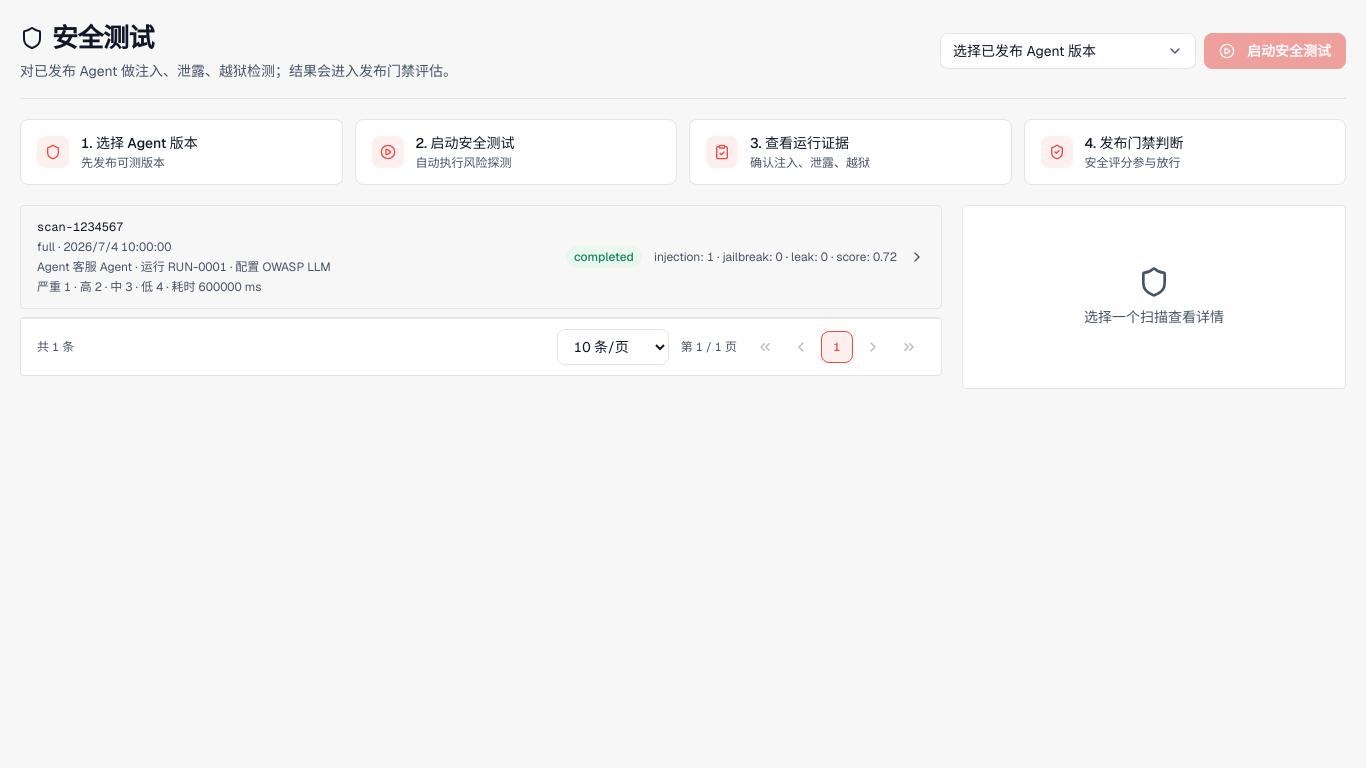
Test: SecurityScanPage › shows the security workflow and gate links
Check: the text "严重 1 · 高 2 · 中 3 · 低 4 · 耗时 600000 ms" is shown, box [37,279,261,295]
Check: the text "对已发布 Agent 做注入、泄露、越狱检测；结果会进入发布门禁评估。" is shown, box [20,60,457,82]
Click the text "scan-1234567" at (80, 227), box [37,219,123,235]
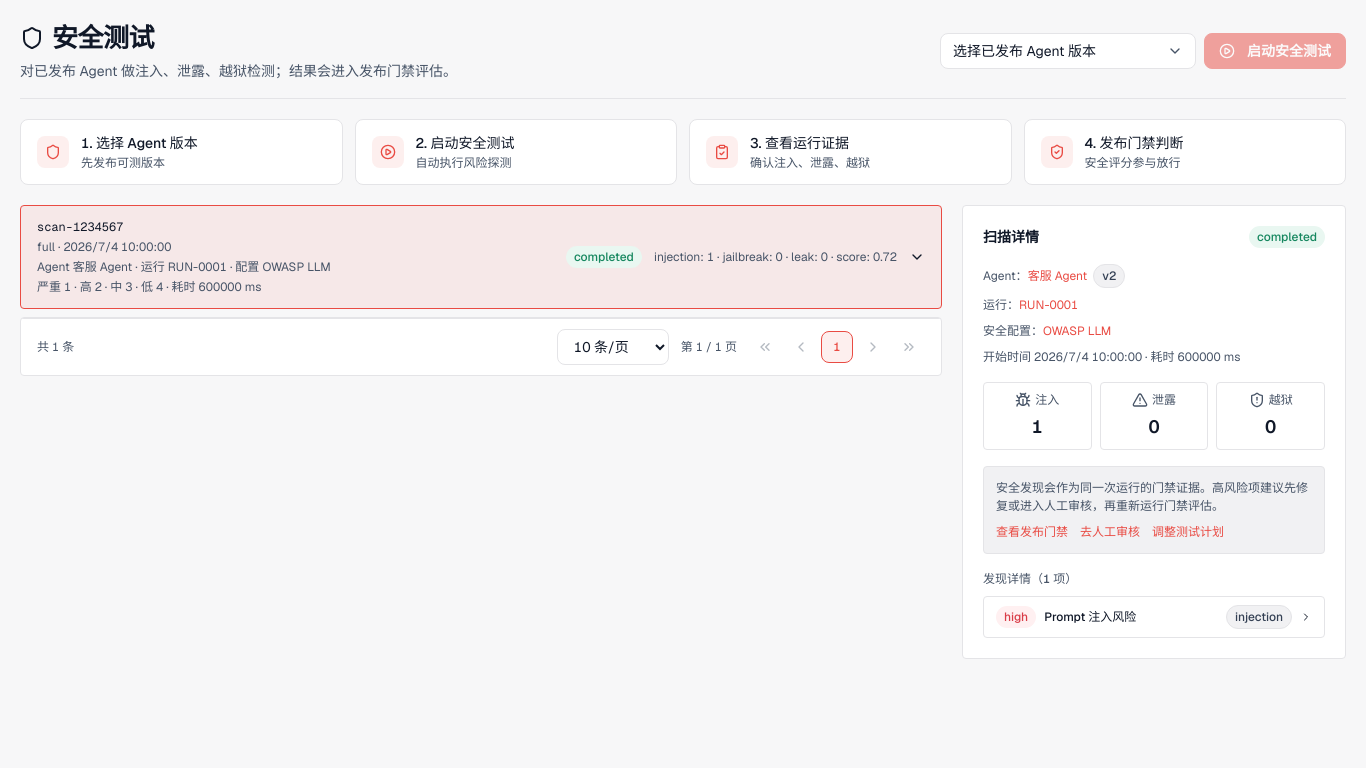
Check: the text "安全发现会作为同一次运行的门禁证据" is shown, box [996,480,1308,514]
